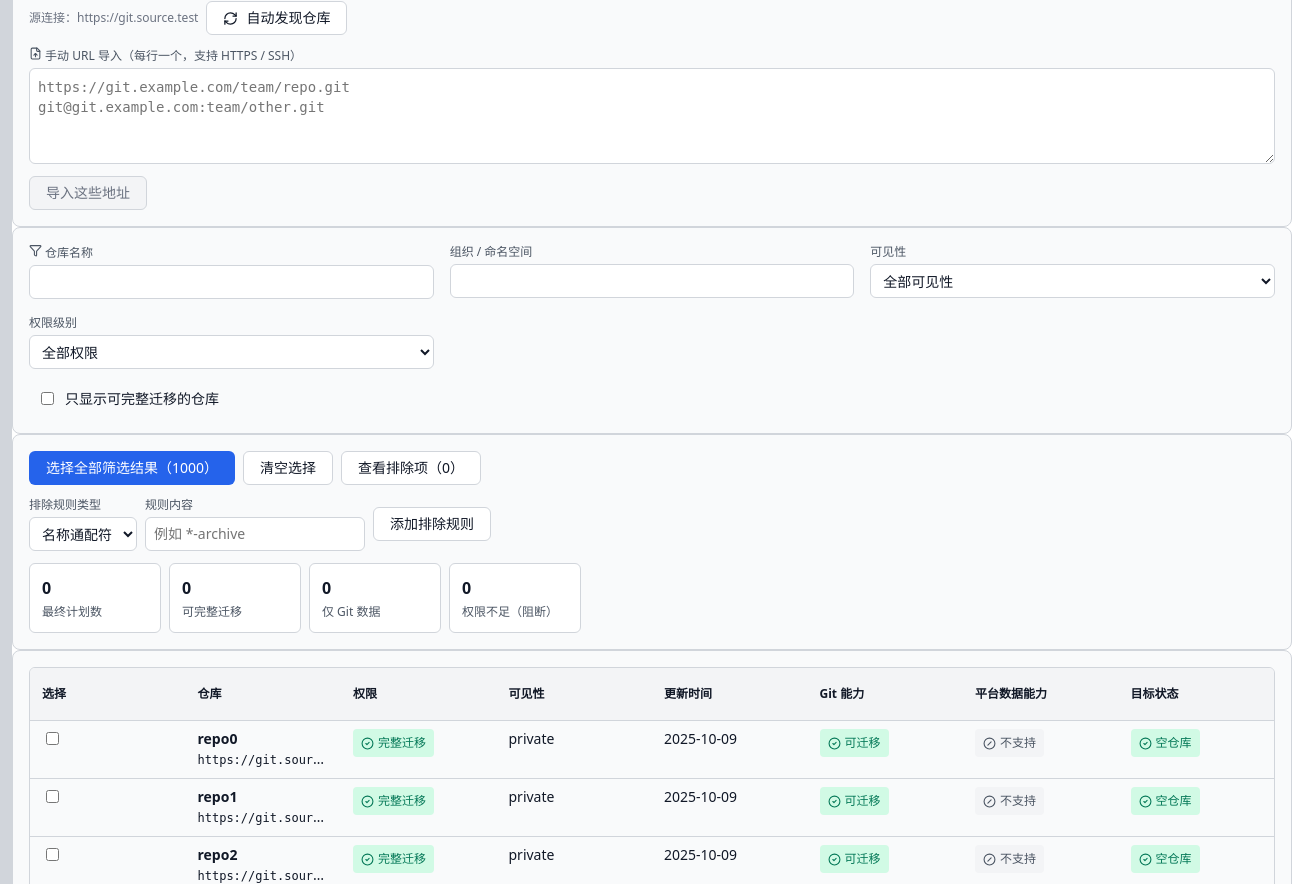
Test case: 仓库选择页 › 1000 个仓库只渲染窗口内的行，但选择与计数仍是全量
Click the button "选择全部筛选结果（1000）". click: (132, 468)
box: top-left (29, 451), bottom-right (235, 485)
(page scrolled)
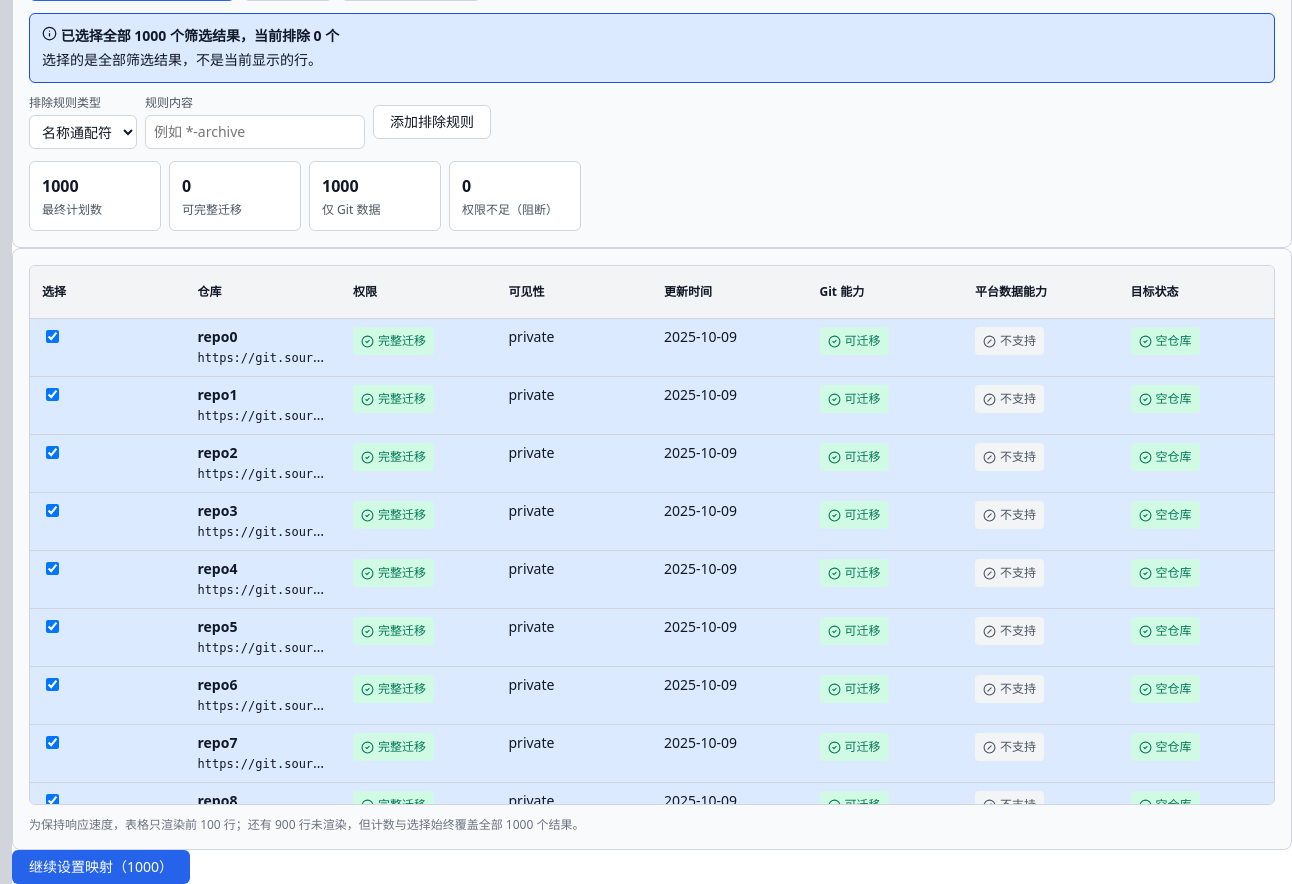
Expected: the text "为保持响应速度，表格只渲染前 100 行；还有 900 行未渲染，但计数与选择始终覆盖全部 1000 个结果。" is shown, top-left (29, 816), bottom-right (584, 833)
Result: the button "继续设置映射（1000）" is shown at top-left (12, 850), bottom-right (190, 883)
